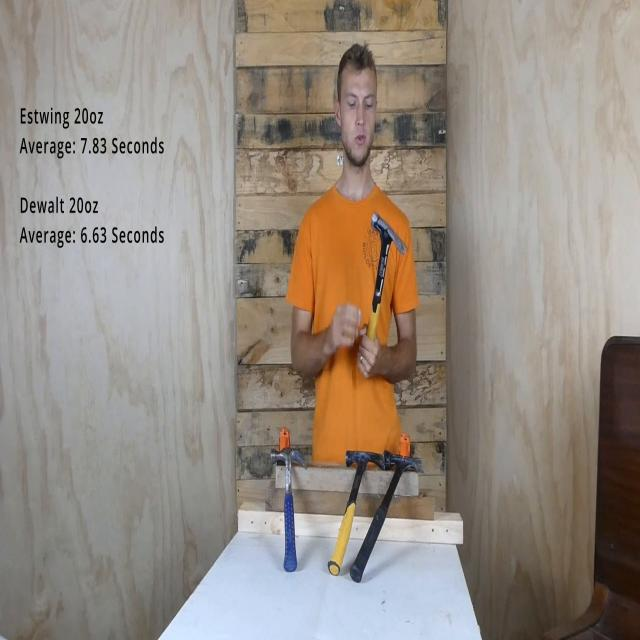hammer: (328, 448, 385, 576), (367, 212, 407, 384), (270, 449, 306, 573)
